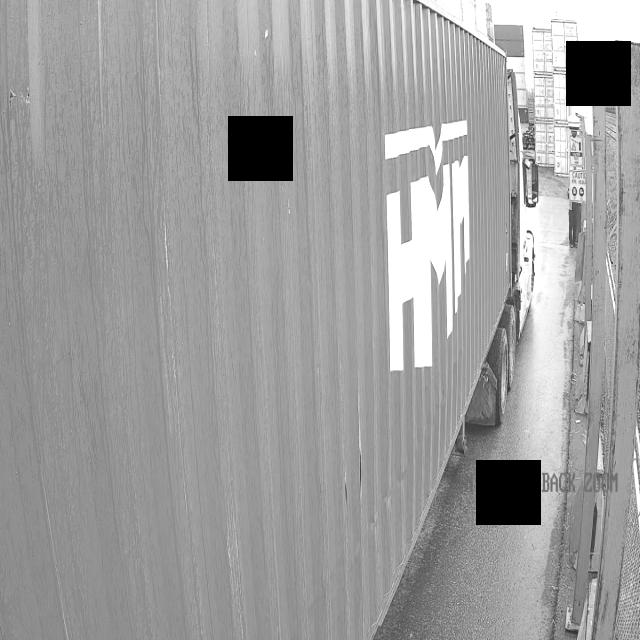container_company_logo: (348, 92, 523, 390)
truck_with_container: (0, 0, 525, 640)
